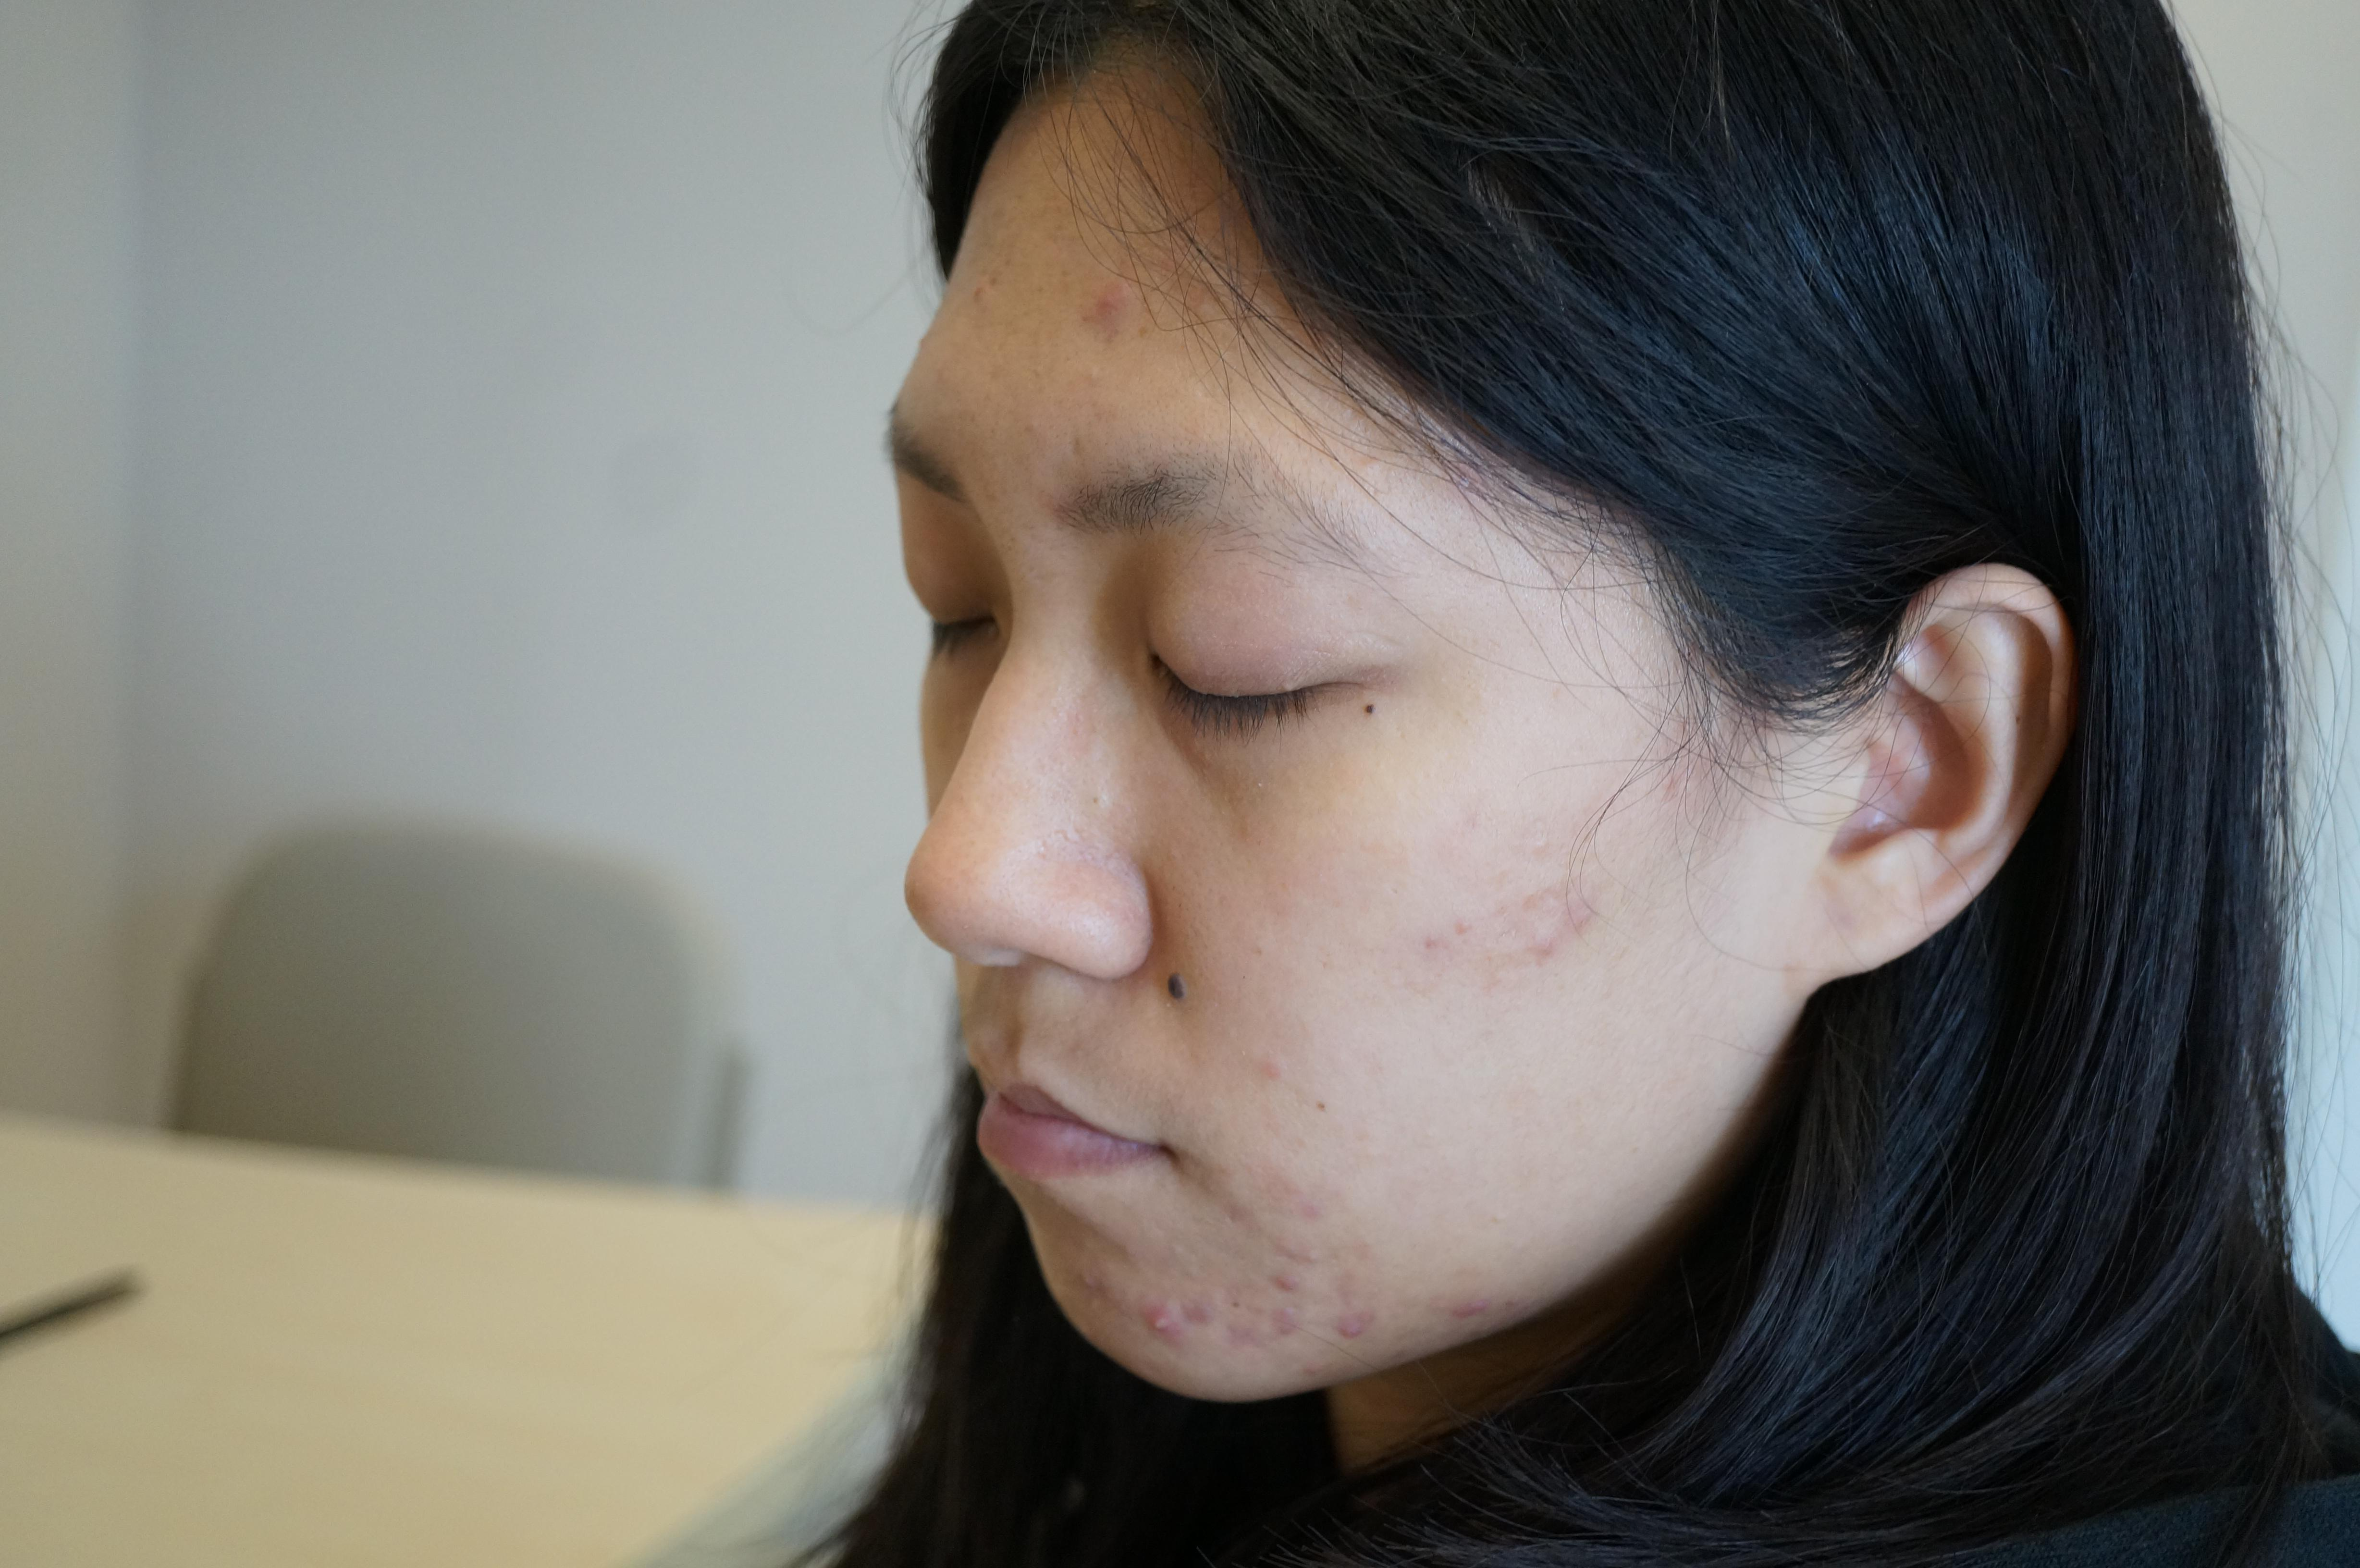fore: (1384, 873, 1492, 980), (1081, 254, 1162, 369), (1125, 1288, 1205, 1368), (1545, 868, 1620, 952), (1440, 1276, 1524, 1332), (1277, 1164, 1340, 1228), (1333, 1288, 1384, 1347), (1261, 1260, 1300, 1332)
